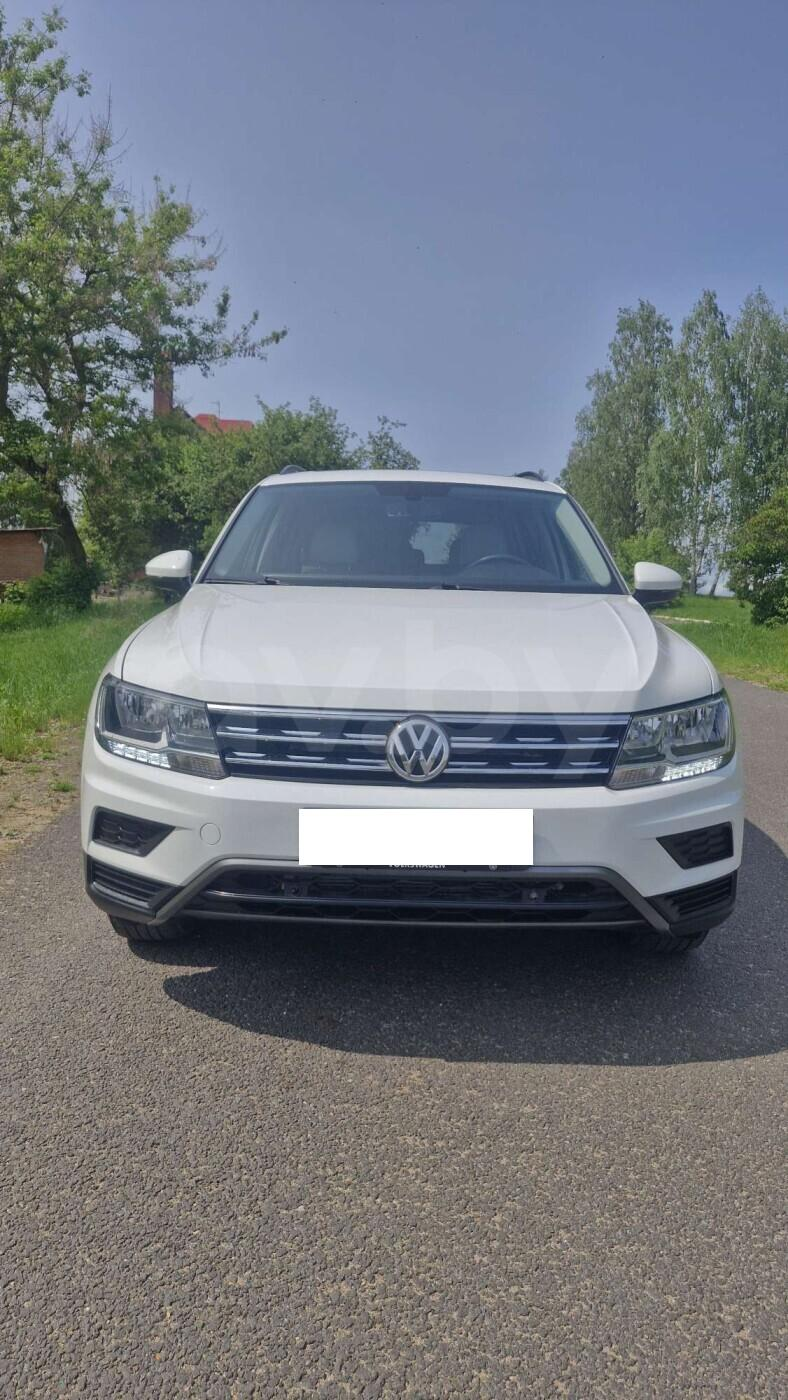Tiguan_2016-2021: (72, 458, 746, 962)
